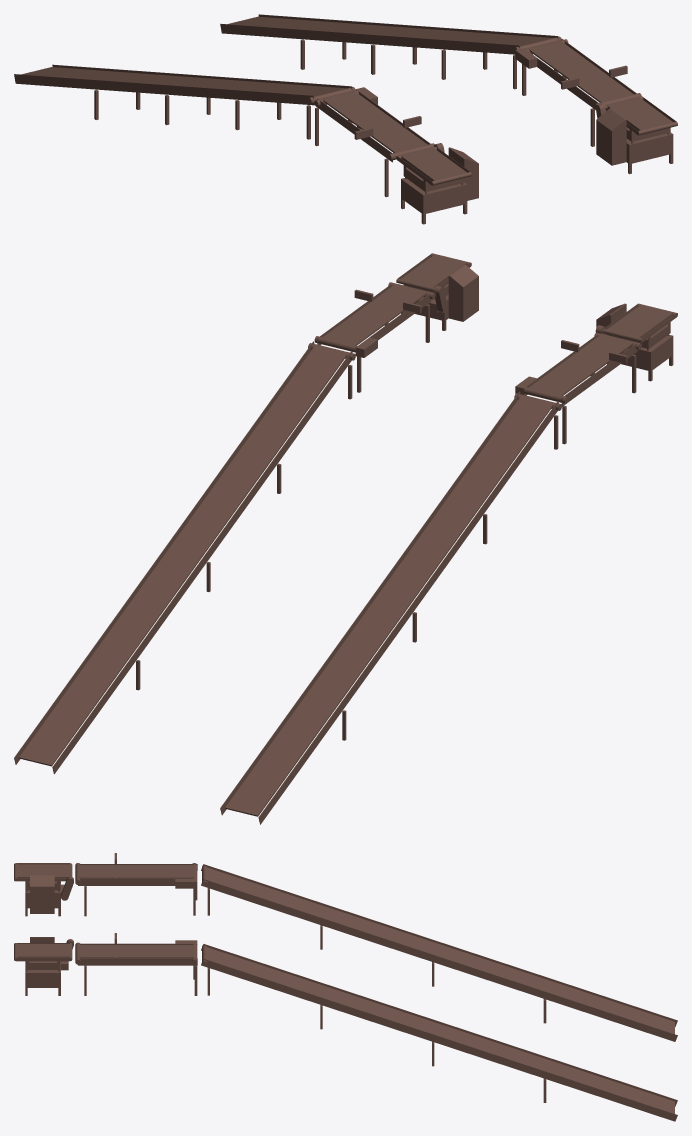
The model's file is GCC-AAV-13220-30.nwd(148).fbx.
The picture shows the model from 3 angles, top to bottom: view 1: azimuth 30°, elevation 25°; view 2: azimuth 150°, elevation 25°; view 3: azimuth 270°, elevation 25°; orthographic projection. The views are drawn at different scales.
Parts seen in each view (by area): view 1: BOX 13 of SUBEQUIPMENT 55 of EQUIPMENT /724-U-401, BOX 13 of SUBEQUIPMENT 41 of EQUIPMENT /724-U-402, BOX 1 of SUBEQUIPMENT 55 of EQUIPMENT /724-U-401, BOX 2 of SUBEQUIPMENT 41 of EQUIPMENT /724-U-402, BOX 7 of SUBEQUIPMENT 40 of EQUIPMENT /724-U-402, BOX 7 of SUBEQUIPMENT 54 of EQUIPMENT /724-U-401, BOX 9 of SUBEQUIPMENT /724-U-401-X-005, BOX 16 of SUBEQUIPMENT /724-U-402-X-005, BOX 1 of SUBEQUIPMENT /724-U-401-X-005, BOX 1 of SUBEQUIPMENT /724-U-402-X-005, BOX 9 of SUBEQUIPMENT /724-U-402-X-005, BOX 1 of SUBEQUIPMENT 41 of EQUIPMENT /724-U-402 (+5 smaller); view 2: BOX 13 of SUBEQUIPMENT 41 of EQUIPMENT /724-U-402, BOX 13 of SUBEQUIPMENT 55 of EQUIPMENT /724-U-401, BOX 2 of SUBEQUIPMENT 41 of EQUIPMENT /724-U-402, BOX 1 of SUBEQUIPMENT 55 of EQUIPMENT /724-U-401, BOX 7 of SUBEQUIPMENT 40 of EQUIPMENT /724-U-402, BOX 7 of SUBEQUIPMENT 54 of EQUIPMENT /724-U-401, BOX 2 of SUBEQUIPMENT 55 of EQUIPMENT /724-U-401, BOX 1 of SUBEQUIPMENT 41 of EQUIPMENT /724-U-402, BOX 16 of SUBEQUIPMENT /724-U-402-X-005, BOX 1 of SUBEQUIPMENT /724-U-401-X-005, BOX 1 of SUBEQUIPMENT /724-U-402-X-005, BOX 9 of SUBEQUIPMENT /724-U-401-X-005; view 3: BOX 13 of SUBEQUIPMENT 55 of EQUIPMENT /724-U-401, BOX 13 of SUBEQUIPMENT 41 of EQUIPMENT /724-U-402, BOX 1 of SUBEQUIPMENT 41 of EQUIPMENT /724-U-402, BOX 2 of SUBEQUIPMENT 55 of EQUIPMENT /724-U-401, BOX 7 of SUBEQUIPMENT 40 of EQUIPMENT /724-U-402, BOX 7 of SUBEQUIPMENT 54 of EQUIPMENT /724-U-401, BOX 1 of SUBEQUIPMENT 55 of EQUIPMENT /724-U-401, BOX 2 of SUBEQUIPMENT 41 of EQUIPMENT /724-U-402, BOX 16 of SUBEQUIPMENT /724-U-401-X-005, BOX 1 of SUBEQUIPMENT 40 of EQUIPMENT /724-U-402, BOX 2 of SUBEQUIPMENT 54 of EQUIPMENT /724-U-401, BOX 1 of SUBEQUIPMENT /724-U-402-X-005 (+2 smaller).
Part boxes in pixels (bbox=[...]): BOX 13 of SUBEQUIPMENT 55 of EQUIPMENT /724-U-401: bbox=[21, 67, 346, 96]; BOX 13 of SUBEQUIPMENT 41 of EQUIPMENT /724-U-402: bbox=[227, 16, 552, 45]; BOX 1 of SUBEQUIPMENT 55 of EQUIPMENT /724-U-401: bbox=[14, 74, 314, 105]; BOX 2 of SUBEQUIPMENT 41 of EQUIPMENT /724-U-402: bbox=[220, 23, 520, 54]; BOX 7 of SUBEQUIPMENT 40 of EQUIPMENT /724-U-402: bbox=[528, 41, 633, 102]; BOX 7 of SUBEQUIPMENT 54 of EQUIPMENT /724-U-401: bbox=[322, 91, 427, 152]; BOX 9 of SUBEQUIPMENT /724-U-401-X-005: bbox=[401, 178, 467, 214]; BOX 16 of SUBEQUIPMENT /724-U-402-X-005: bbox=[596, 108, 626, 165]; BOX 1 of SUBEQUIPMENT /724-U-401-X-005: bbox=[401, 147, 466, 180]; BOX 1 of SUBEQUIPMENT /724-U-402-X-005: bbox=[607, 97, 673, 130]; BOX 9 of SUBEQUIPMENT /724-U-402-X-005: bbox=[626, 132, 673, 164]; BOX 1 of SUBEQUIPMENT 41 of EQUIPMENT /724-U-402: bbox=[258, 14, 558, 40]; BOX 13 of SUBEQUIPMENT 41 of EQUIPMENT /724-U-402: bbox=[19, 345, 347, 766]; BOX 13 of SUBEQUIPMENT 55 of EQUIPMENT /724-U-401: bbox=[225, 396, 553, 816]; BOX 2 of SUBEQUIPMENT 41 of EQUIPMENT /724-U-402: bbox=[52, 350, 352, 774]; BOX 1 of SUBEQUIPMENT 55 of EQUIPMENT /724-U-401: bbox=[258, 401, 558, 824]; BOX 7 of SUBEQUIPMENT 40 of EQUIPMENT /724-U-402: bbox=[322, 284, 427, 345]; BOX 7 of SUBEQUIPMENT 54 of EQUIPMENT /724-U-401: bbox=[529, 334, 633, 395]; BOX 2 of SUBEQUIPMENT 55 of EQUIPMENT /724-U-401: bbox=[220, 391, 520, 815]; BOX 1 of SUBEQUIPMENT 41 of EQUIPMENT /724-U-402: bbox=[14, 341, 314, 764]; BOX 16 of SUBEQUIPMENT /724-U-402-X-005: bbox=[448, 264, 478, 321]; BOX 1 of SUBEQUIPMENT /724-U-401-X-005: bbox=[607, 304, 673, 337]; BOX 1 of SUBEQUIPMENT /724-U-402-X-005: bbox=[401, 254, 467, 287]; BOX 9 of SUBEQUIPMENT /724-U-401-X-005: bbox=[610, 335, 673, 371]; BOX 13 of SUBEQUIPMENT 55 of EQUIPMENT /724-U-401: bbox=[206, 867, 674, 1034]; BOX 13 of SUBEQUIPMENT 41 of EQUIPMENT /724-U-402: bbox=[206, 947, 674, 1113]; BOX 1 of SUBEQUIPMENT 41 of EQUIPMENT /724-U-402: bbox=[201, 958, 677, 1121]; BOX 2 of SUBEQUIPMENT 55 of EQUIPMENT /724-U-401: bbox=[201, 879, 677, 1041]; BOX 7 of SUBEQUIPMENT 40 of EQUIPMENT /724-U-402: bbox=[78, 945, 194, 958]; BOX 7 of SUBEQUIPMENT 54 of EQUIPMENT /724-U-401: bbox=[78, 865, 194, 878]; BOX 1 of SUBEQUIPMENT 55 of EQUIPMENT /724-U-401: bbox=[201, 864, 677, 1026]; BOX 2 of SUBEQUIPMENT 41 of EQUIPMENT /724-U-402: bbox=[201, 944, 677, 1106]; BOX 16 of SUBEQUIPMENT /724-U-401-X-005: bbox=[30, 874, 54, 913]; BOX 1 of SUBEQUIPMENT 40 of EQUIPMENT /724-U-402: bbox=[78, 958, 197, 965]; BOX 2 of SUBEQUIPMENT 54 of EQUIPMENT /724-U-401: bbox=[78, 878, 196, 885]; BOX 1 of SUBEQUIPMENT /724-U-402-X-005: bbox=[15, 944, 70, 957].
Bounding box in the file's own units: 197 × 148 × 527.
